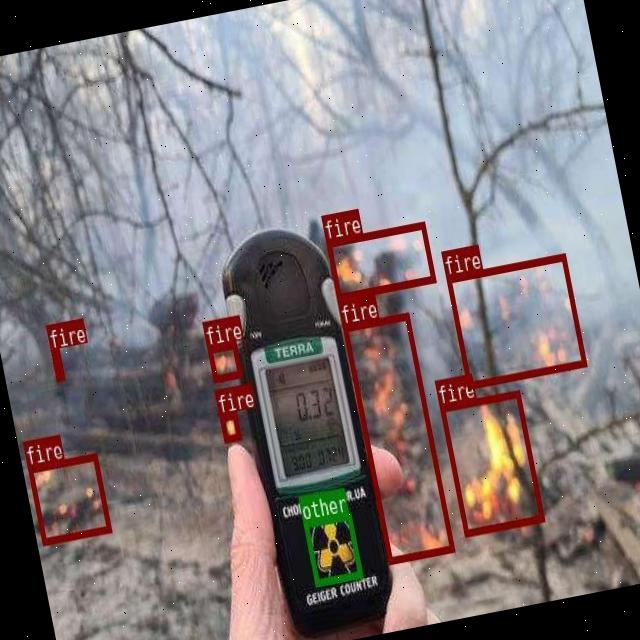fire: (342, 311, 454, 562), (444, 253, 586, 388), (438, 390, 544, 536), (324, 220, 436, 300), (28, 452, 110, 544), (207, 340, 242, 380), (218, 411, 240, 443), (50, 348, 64, 381)
